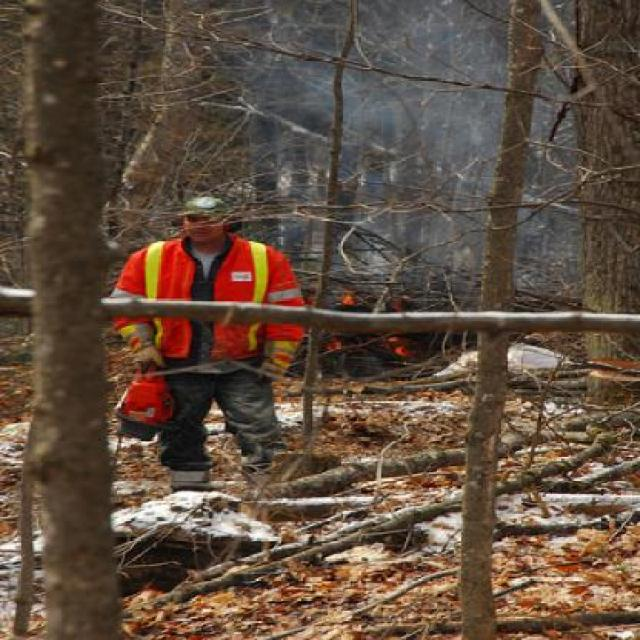Chainsaw: (117, 355, 177, 456)
